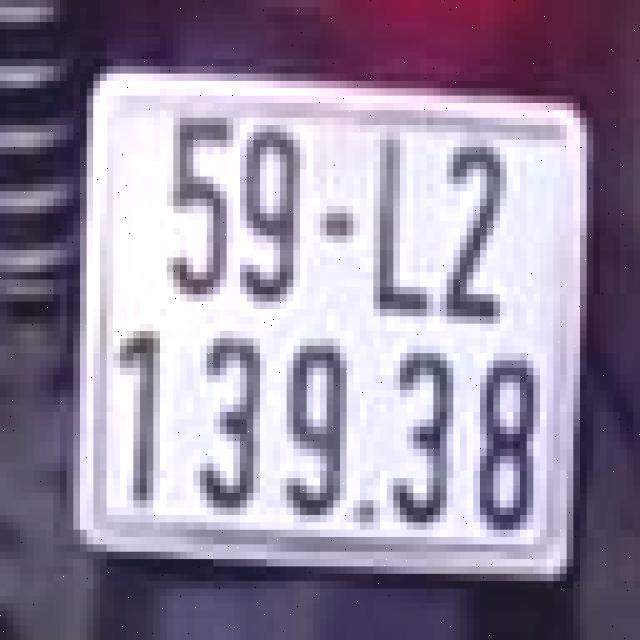1: (110, 309, 177, 515)
2: (443, 136, 510, 327)
3: (194, 331, 274, 530), (387, 346, 460, 530)
5: (156, 107, 236, 290)
8: (470, 357, 557, 540)
9: (283, 331, 350, 522), (240, 122, 307, 306)
L: (363, 118, 437, 316)
